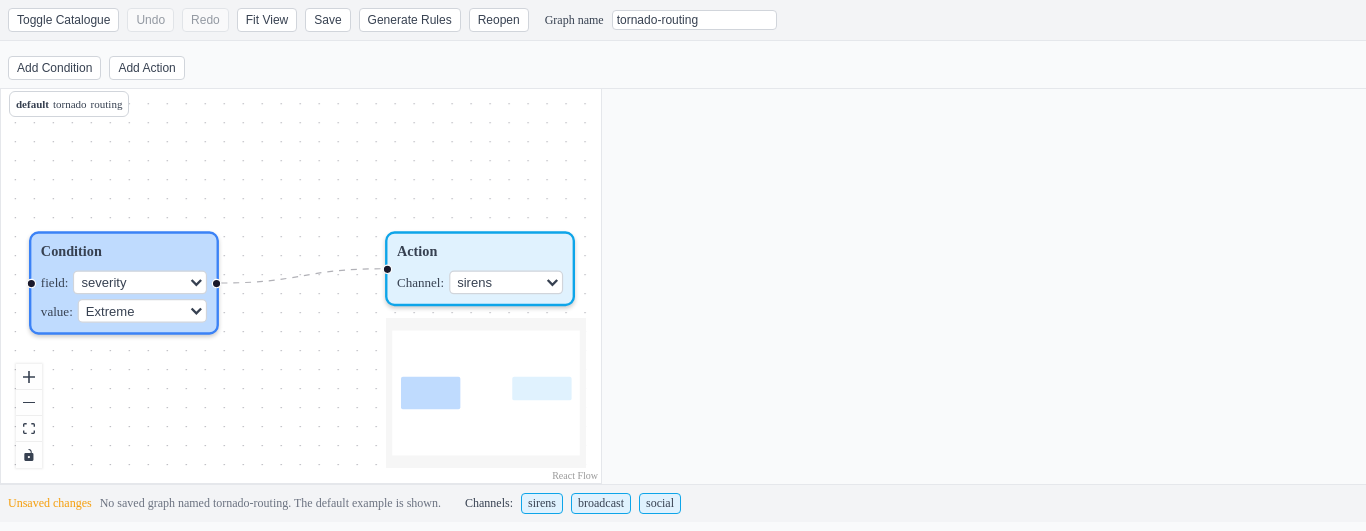
Test: AlertRuleDesigner behaviour › enables undo after an edit, and undo/redo step back and forth
expect the button "Undo" is disabled: met, box [127, 8, 174, 32]
Note: make a change
Click the button "Add Condition" at x=55, y=68, box [8, 56, 101, 80]
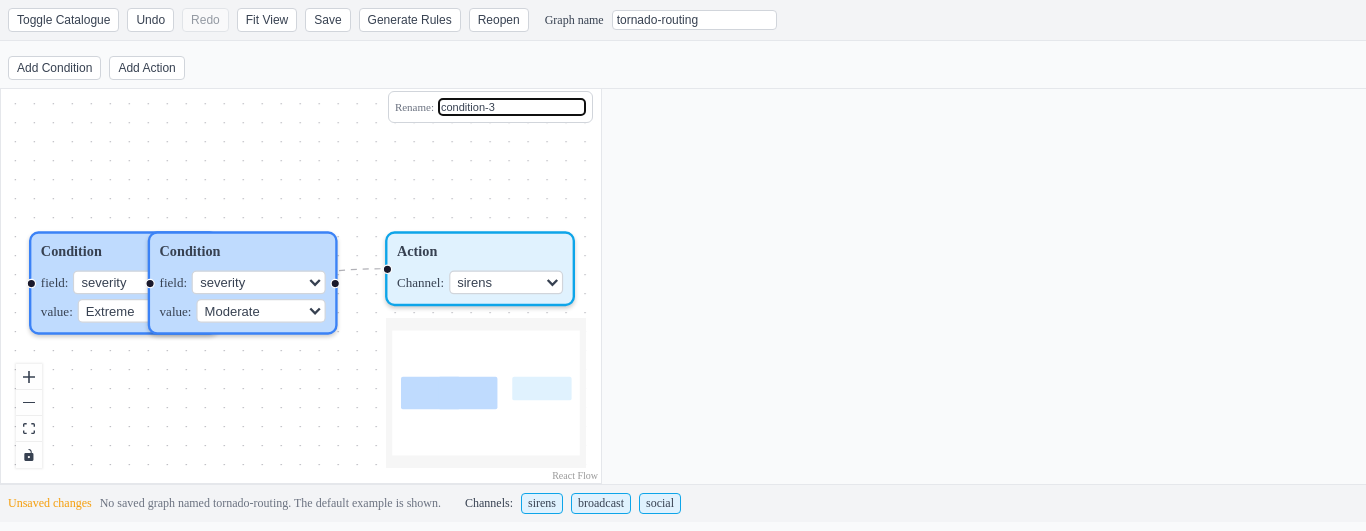
expect the button "Redo" is disabled: met, box [182, 8, 229, 32]
expect the button "Undo" is enabled: met
Click the button "Undo" at x=151, y=20, box [127, 8, 174, 32]
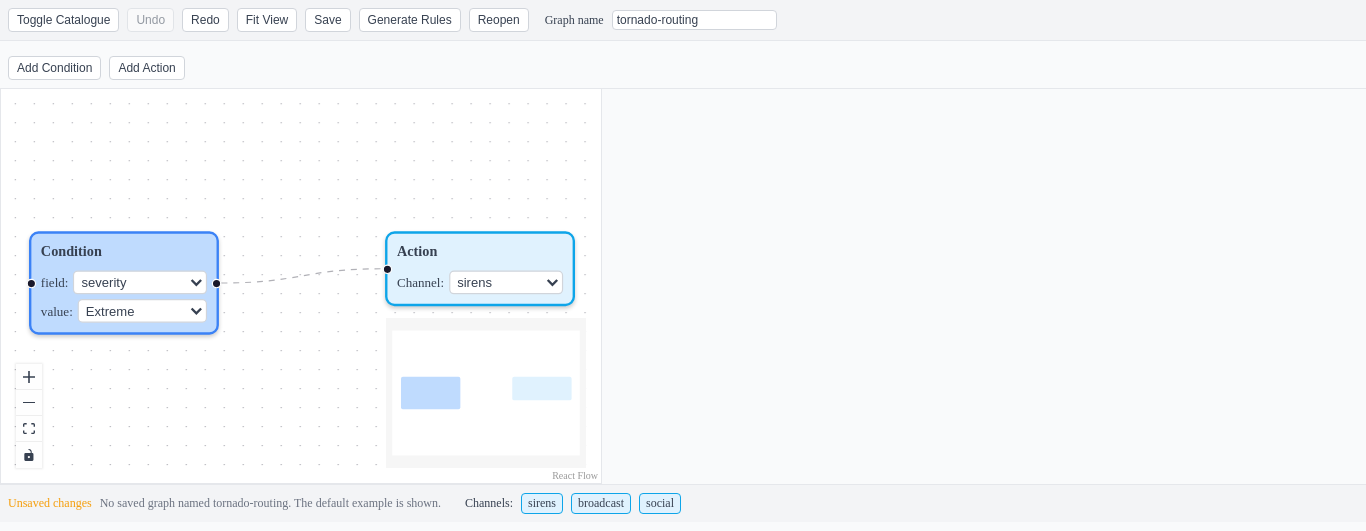
expect the button "Redo" is enabled: met
expect the button "Undo" is disabled: met, box [127, 8, 174, 32]
Note: redo re-applies the change
Click the button "Redo" at x=205, y=20, box [182, 8, 229, 32]
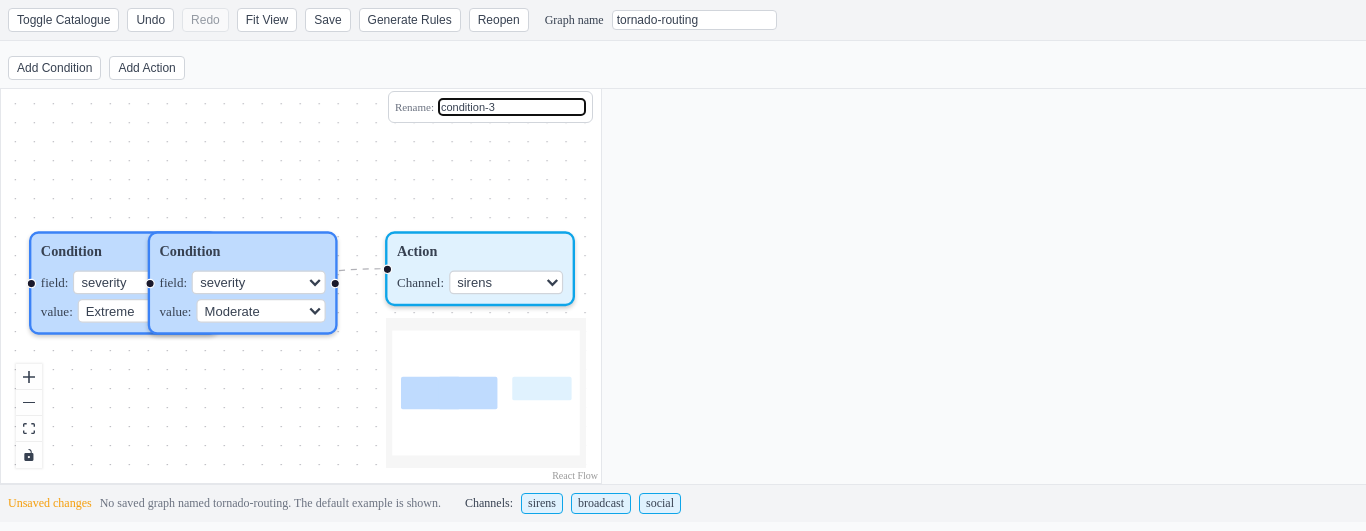
expect the button "Undo" is enabled: met, box [127, 8, 174, 32]
expect the button "Redo" is disabled: met, box [182, 8, 229, 32]
